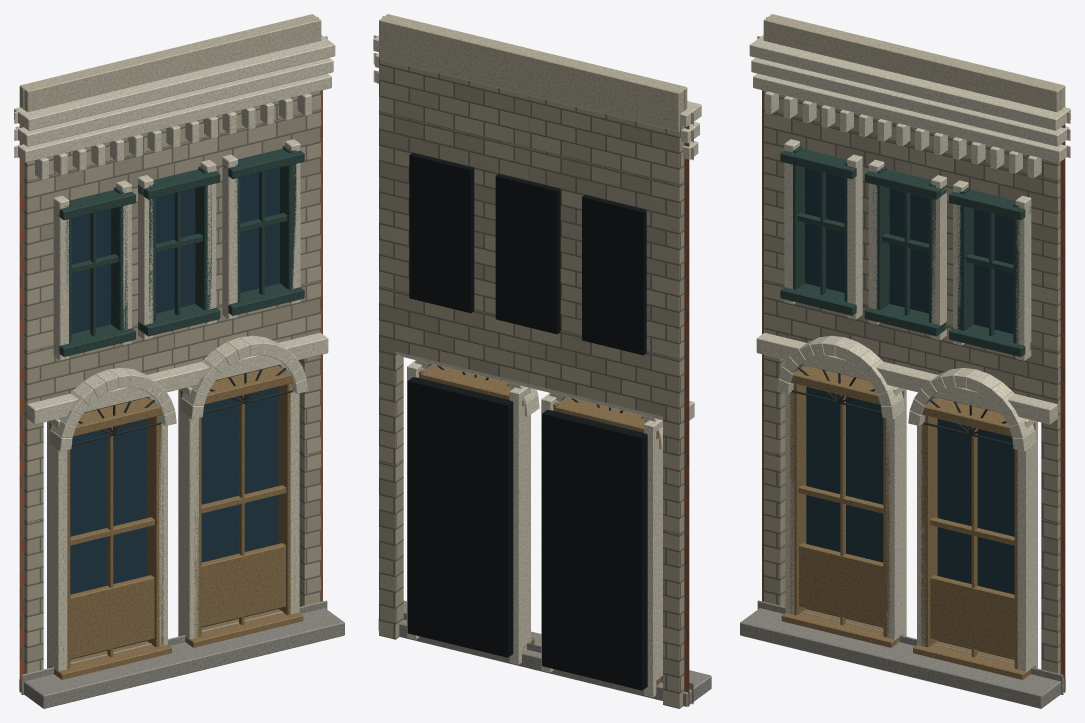
File: CLSTGA15_lod1.glb
The picture shows the model from 3 angles, left to right: view 1: azimuth 30°, elevation 25°; view 2: azimuth 150°, elevation 25°; view 3: azimuth 330°, elevation 25°; orthographic projection. The views are drawn at different scales.
Visible parts, largest first — view 1: CLSTGA15_FRONT_LOD1; view 2: CLSTGA15_FRONT_LOD1; view 3: CLSTGA15_FRONT_LOD1.
Boxes of the visible parts, x1,y1,x2,y2 form: CLSTGA15_FRONT_LOD1: [14, 14, 344, 708]; CLSTGA15_FRONT_LOD1: [373, 14, 711, 708]; CLSTGA15_FRONT_LOD1: [740, 14, 1070, 708].
Size of the model in its own units: 3.84 by 7.05 by 0.68.
Materials: 11 (9 with a texture image).
